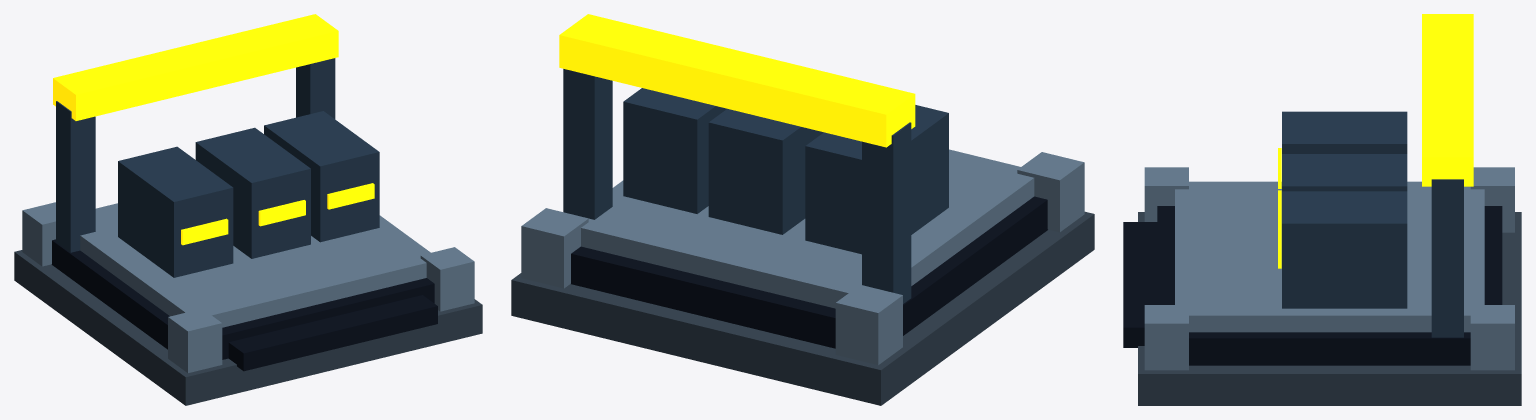
Rendered from depot_low.glb.
The picture shows the model from 3 angles, left to right: view 1: azimuth 30°, elevation 25°; view 2: azimuth 150°, elevation 25°; view 3: azimuth 270°, elevation 25°; orthographic projection. The views are drawn at different scales.
Parts seen in each view (by area): view 1: Loading deck, Foundation, Cargo hoist, Salvage crate, Salvage crate.001, Salvage crate.002, Undercarriage, Loading ramp, Dock post, Corner lock.001, Corner lock.003, Dock post.001 (+4 smaller); view 2: Foundation, Loading deck, Cargo hoist, Undercarriage, Salvage crate.001, Salvage crate, Salvage crate.002, Dock post, Dock post.001, Corner lock, Corner lock.002, Corner lock.001; view 3: Loading deck, Foundation, Salvage crate.002, Undercarriage, Cargo hoist, Salvage crate, Dock post.001, Salvage crate.001, Loading ramp, Corner lock.002, Corner lock.003, Corner lock (+1 smaller).
Part boxes in pixels (x1=…): Loading deck: x1=80, y1=203, x2=430, y2=327; Foundation: x1=14, y1=250, x2=482, y2=405; Cargo hoist: x1=53, y1=14, x2=338, y2=120; Salvage crate: x1=118, y1=146, x2=233, y2=277; Salvage crate.001: x1=195, y1=127, x2=310, y2=258; Salvage crate.002: x1=264, y1=111, x2=379, y2=242; Undercarriage: x1=51, y1=239, x2=434, y2=359; Loading ramp: x1=228, y1=295, x2=437, y2=371; Dock post: x1=56, y1=101, x2=95, y2=252; Corner lock.001: x1=168, y1=308, x2=222, y2=372; Corner lock.003: x1=420, y1=247, x2=474, y2=311; Dock post.001: x1=296, y1=58, x2=335, y2=118; Foundation: x1=511, y1=211, x2=1094, y2=405; Loading deck: x1=581, y1=149, x2=1034, y2=308; Cargo hoist: x1=559, y1=14, x2=915, y2=147; Undercarriage: x1=571, y1=196, x2=1047, y2=348; Salvage crate.001: x1=708, y1=109, x2=823, y2=234; Salvage crate: x1=805, y1=105, x2=948, y2=254; Salvage crate.002: x1=623, y1=88, x2=726, y2=213; Dock post: x1=862, y1=122, x2=911, y2=303; Dock post.001: x1=563, y1=69, x2=612, y2=219; Corner lock: x1=835, y1=285, x2=902, y2=365; Corner lock.002: x1=521, y1=208, x2=588, y2=288; Corner lock.001: x1=1017, y1=152, x2=1084, y2=232; Loading deck: x1=1175, y1=181, x2=1484, y2=332; Foundation: x1=1138, y1=212, x2=1521, y2=405; Salvage crate.002: x1=1282, y1=191, x2=1407, y2=308; Undercarriage: x1=1157, y1=206, x2=1502, y2=365; Cargo hoist: x1=1422, y1=14, x2=1473, y2=186; Salvage crate: x1=1282, y1=111, x2=1407, y2=153; Dock post.001: x1=1431, y1=179, x2=1463, y2=337; Salvage crate.001: x1=1282, y1=154, x2=1407, y2=191; Loading ramp: x1=1123, y1=222, x2=1157, y2=347; Corner lock.002: x1=1470, y1=305, x2=1514, y2=370; Corner lock.003: x1=1144, y1=305, x2=1188, y2=370; Corner lock: x1=1470, y1=167, x2=1514, y2=232.
Bounding box in the file's own units: 2.6 × 1.79 × 2.7.
